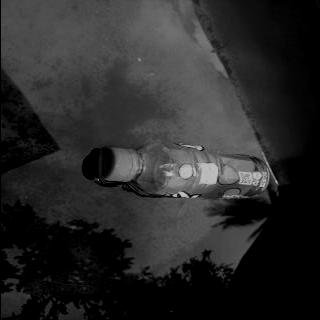bottle: (94, 140, 272, 202)
